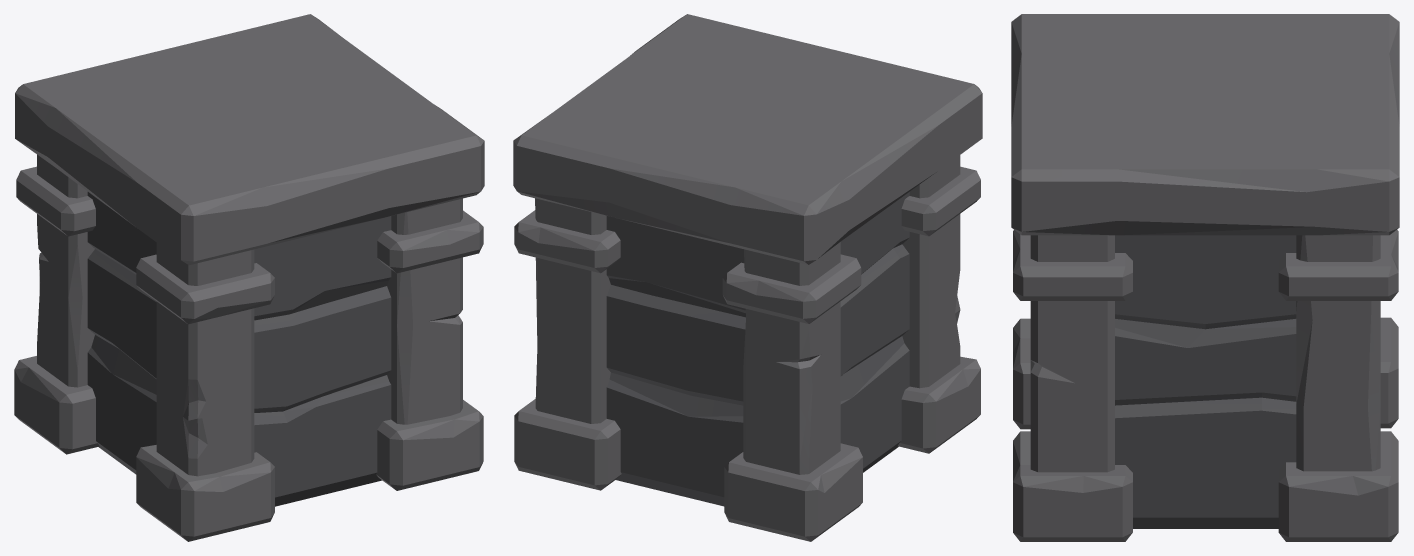
3 views of the same model, side by side, from view 1: azimuth 30°, elevation 25°; view 2: azimuth 150°, elevation 25°; view 3: azimuth 270°, elevation 25° (orthographic). The views are drawn at different scales.
Parts seen in each view (by area): view 1: SM_Bld_Tower_Stone_Base_01; view 2: SM_Bld_Tower_Stone_Base_01; view 3: SM_Bld_Tower_Stone_Base_01.
Part boxes in pixels (x1=…): SM_Bld_Tower_Stone_Base_01: x1=14, y1=14, x2=484, y2=541; SM_Bld_Tower_Stone_Base_01: x1=513, y1=14, x2=982, y2=541; SM_Bld_Tower_Stone_Base_01: x1=1011, y1=14, x2=1399, y2=541.
Size of the model in its own units: 2.59 by 2.78 by 2.59.
Materials: 1 (1 with a texture image).
